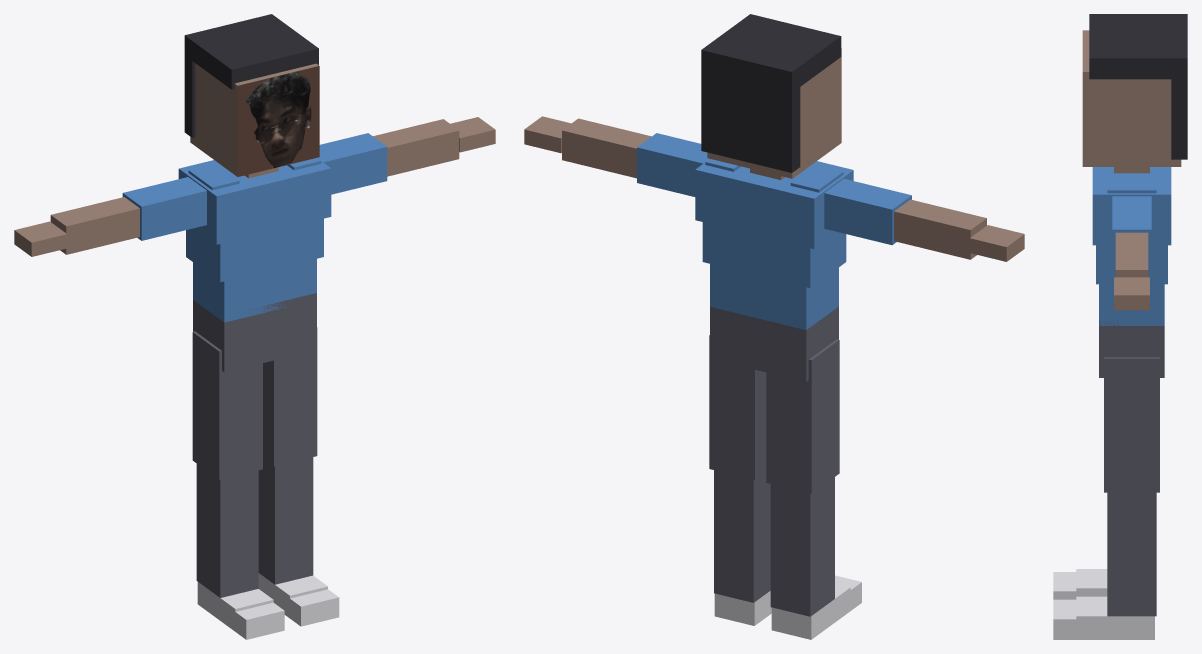
File: keerati_3d_for_mixamo.fbx
3 views of the same model, side by side, from view 1: azimuth 30°, elevation 25°; view 2: azimuth 150°, elevation 25°; view 3: azimuth 270°, elevation 25° (orthographic). The views are drawn at different scales.
Visible parts, largest first — view 1: Keerati; view 2: Keerati; view 3: Keerati.
Boxes of the visible parts, x1=… form: Keerati: x1=14, y1=14, x2=495, y2=639; Keerati: x1=524, y1=14, x2=1024, y2=639; Keerati: x1=1053, y1=14, x2=1187, y2=639.
Bounding box in the file's own units: 170 × 195 × 41.
Materials: 6 (1 with a texture image).
